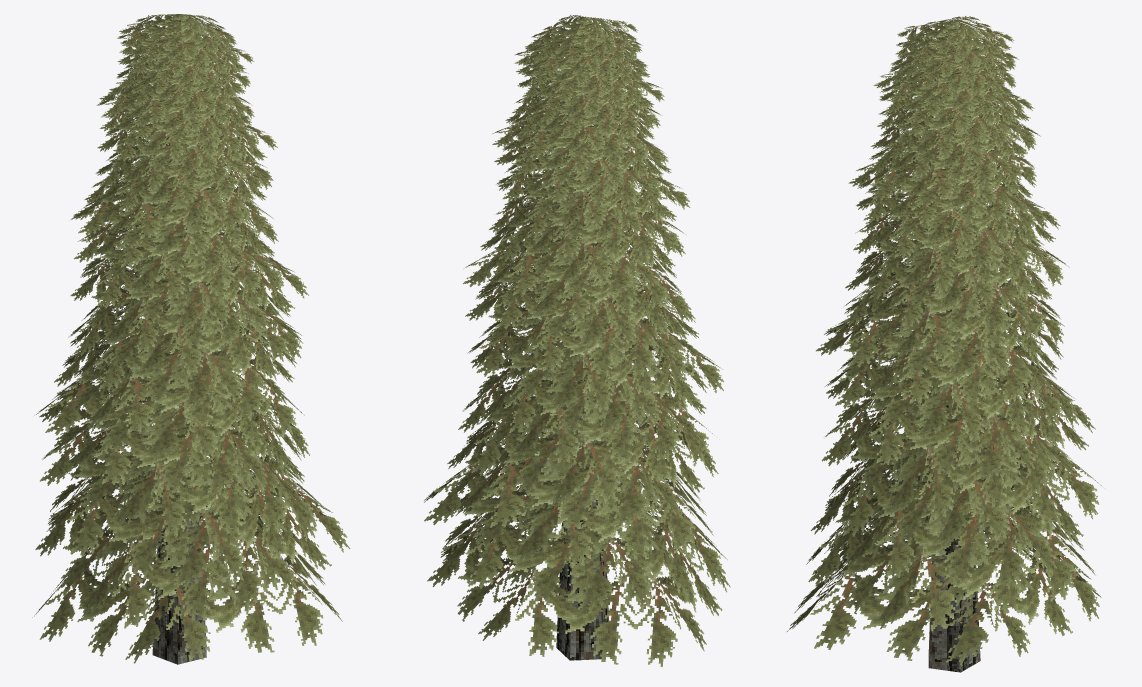
File: Tree1.glb
3 views of the same model, side by side, from view 1: azimuth 30°, elevation 25°; view 2: azimuth 150°, elevation 25°; view 3: azimuth 270°, elevation 25° (orthographic).
Visible parts, largest first — view 1: Tree; view 2: Tree; view 3: Tree.
Boxes of the visible parts, <box> form: Tree: <box>32,14,350,664</box>; Tree: <box>424,15,730,667</box>; Tree: <box>787,16,1101,672</box>.
Bounding box in the file's own units: 6.16 × 12.27 × 6.11.
2 materials, 2 textured.
